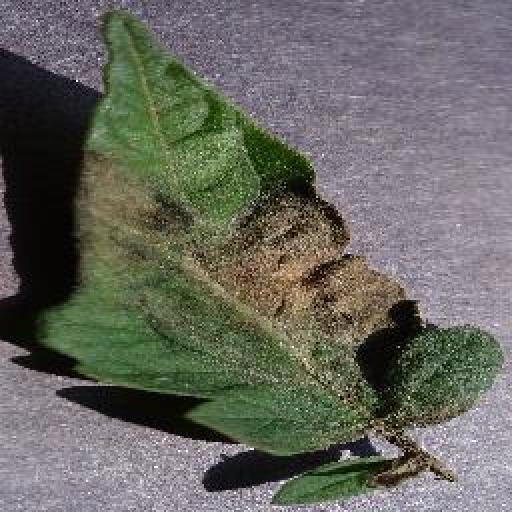disease_tomato: (42, 6, 506, 458)
